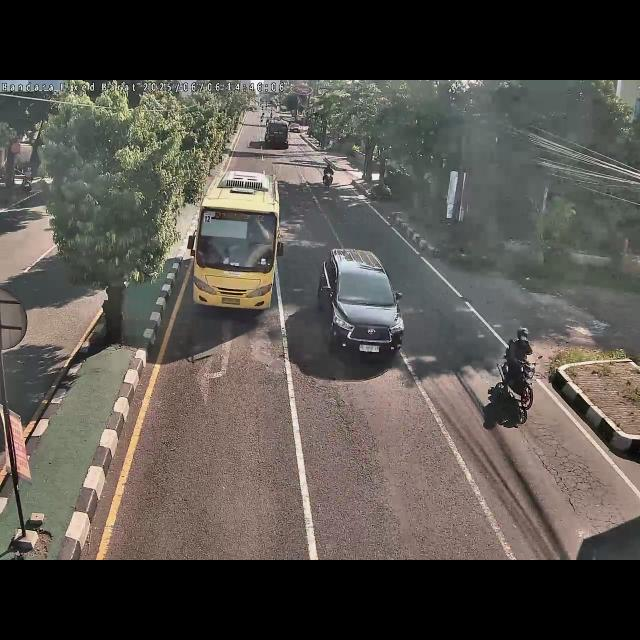Bis: (187, 168, 286, 312)
Mobil: (316, 246, 408, 364)
Motor: (496, 322, 540, 416), (321, 162, 337, 188)
